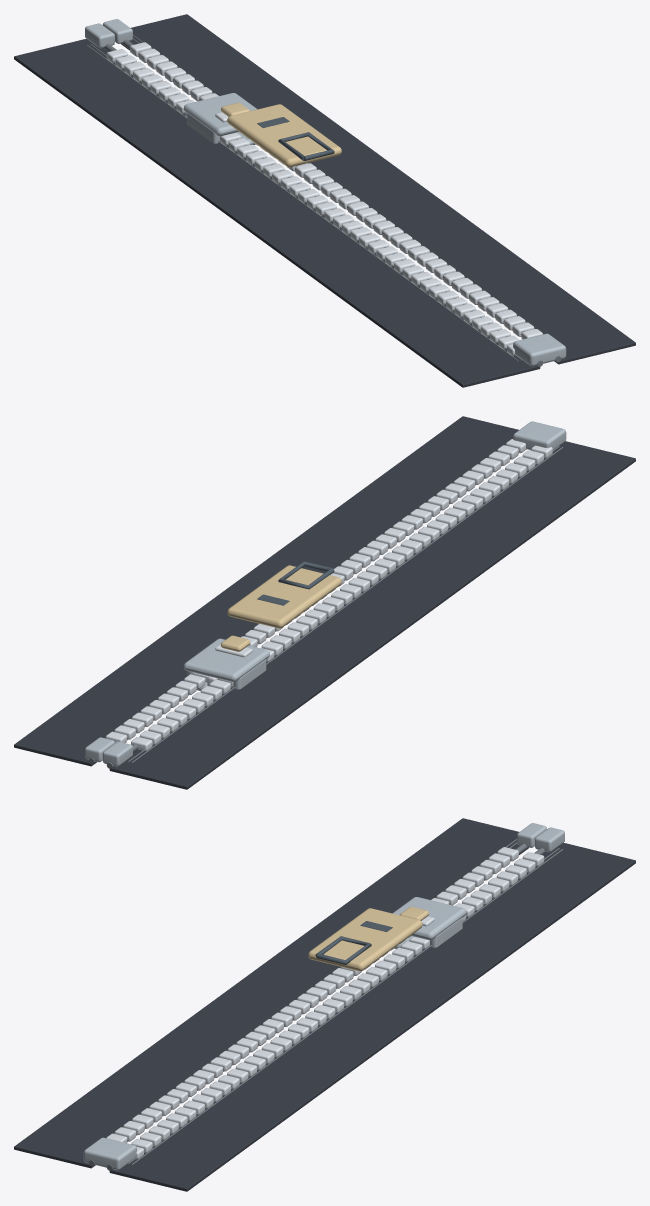
Rendered from EXO_Custom_Zipper.glb.
3 renders of one model, top to bottom at view 1: azimuth 30°, elevation 25°; view 2: azimuth 150°, elevation 25°; view 3: azimuth 330°, elevation 25°, orthographic.
Parts seen in each view (by area): view 1: Tape_L | 16 mm width, Tape_R | 16 mm width, Puller | solid custom tab, Slider | top pressure plate, Bottom box stop, Thread_L_2, Puller | open machined grip hole, Top stop_L; view 2: Tape_L | 16 mm width, Tape_R | 16 mm width, Puller | solid custom tab, Slider | top pressure plate, Bottom box stop, Thread_L_2, Puller | open machined grip hole, Top stop_L; view 3: Tape_R | 16 mm width, Tape_L | 16 mm width, Puller | solid custom tab, Slider | top pressure plate, Bottom box stop, Thread_R_2, Puller | open machined grip hole, Top stop_R.
Part boxes in pixels (box(x1,y1,x2,y2)): Tape_L | 16 mm width: box(14, 38, 540, 387); Tape_R | 16 mm width: box(121, 14, 635, 364); Puller | solid custom tab: box(227, 104, 341, 167); Slider | top pressure plate: box(183, 93, 257, 136); Bottom box stop: box(513, 333, 566, 366); Thread_L_2: box(86, 45, 518, 361); Puller | open machined grip hole: box(278, 132, 334, 160); Top stop_L: box(85, 23, 114, 48); Tape_L | 16 mm width: box(109, 441, 635, 789); Tape_R | 16 mm width: box(14, 416, 518, 766); Puller | solid custom tab: box(227, 565, 341, 628); Slider | top pressure plate: box(183, 638, 269, 681); Bottom box stop: box(513, 421, 566, 450); Thread_L_2: box(131, 447, 563, 763); Puller | open machined grip hole: box(278, 561, 334, 589); Top stop_L: box(102, 741, 132, 766); Tape_R | 16 mm width: box(109, 842, 635, 1191); Tape_L | 16 mm width: box(14, 818, 528, 1168); Puller | solid custom tab: box(308, 908, 422, 971); Slider | top pressure plate: box(392, 897, 466, 940); Bottom box stop: box(83, 1137, 136, 1170); Thread_R_2: box(131, 849, 563, 1165); Puller | open machined grip hole: box(315, 936, 371, 964); Top stop_R: box(535, 827, 564, 852).
Bounding box in the file's own units: 0.0357 × 0.00994 × 0.16.
